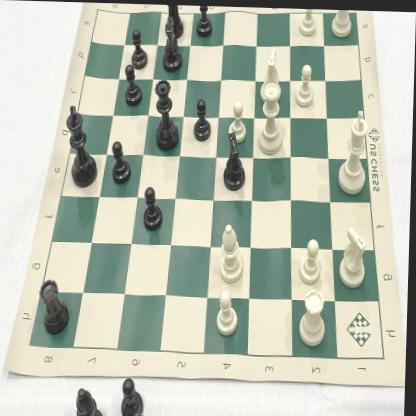black-king: (65, 100, 100, 190)
black-knight: (219, 129, 251, 192), (164, 15, 184, 72)
black-pawn: (110, 137, 135, 187), (143, 183, 165, 232), (123, 61, 145, 107), (192, 97, 214, 143), (131, 25, 151, 68), (194, 5, 215, 38)
black-queen: (152, 75, 183, 156)
black-rook: (40, 273, 74, 338), (162, 4, 185, 41)
white-bishop: (218, 221, 249, 284)
white-king: (336, 105, 373, 195)
white-knight: (337, 220, 375, 289), (259, 43, 284, 103)
white-pawn: (216, 285, 245, 339), (292, 61, 318, 108), (300, 234, 324, 284), (227, 94, 250, 142), (296, 7, 320, 37)
white-queen: (255, 80, 286, 156)
white-rook: (299, 285, 332, 347), (329, 8, 356, 39)
